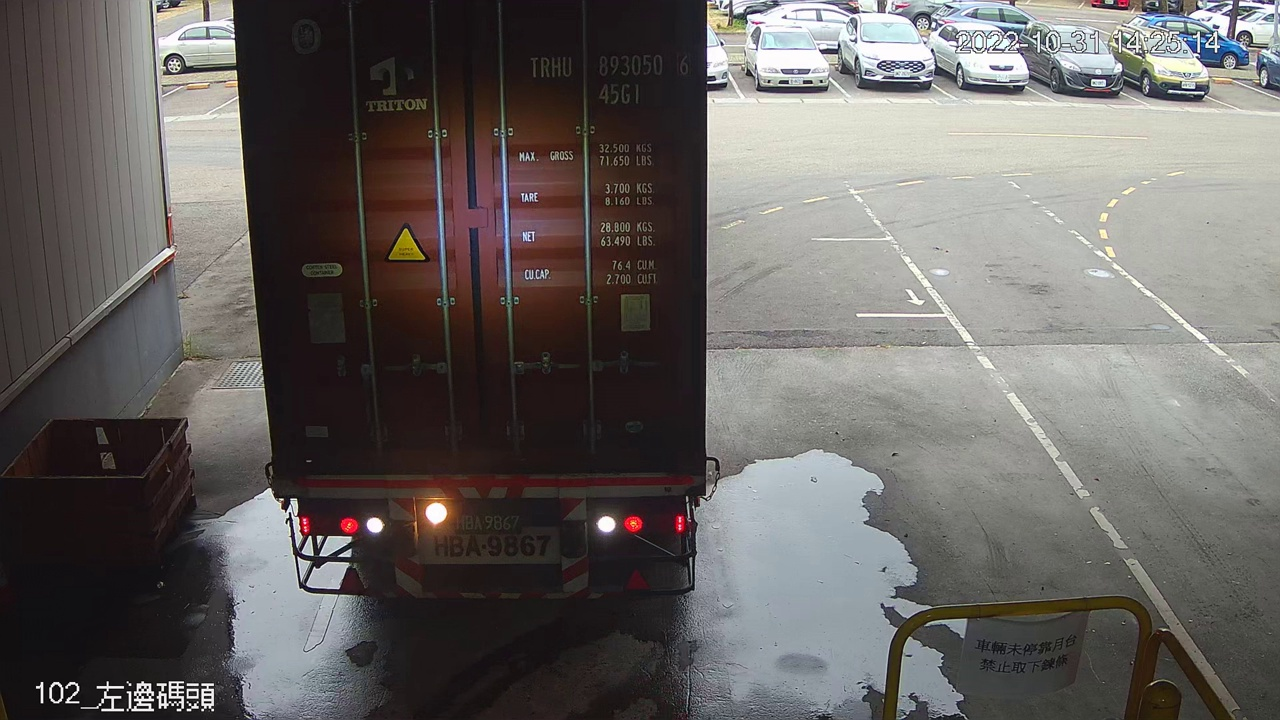container: (523, 44, 694, 113)
